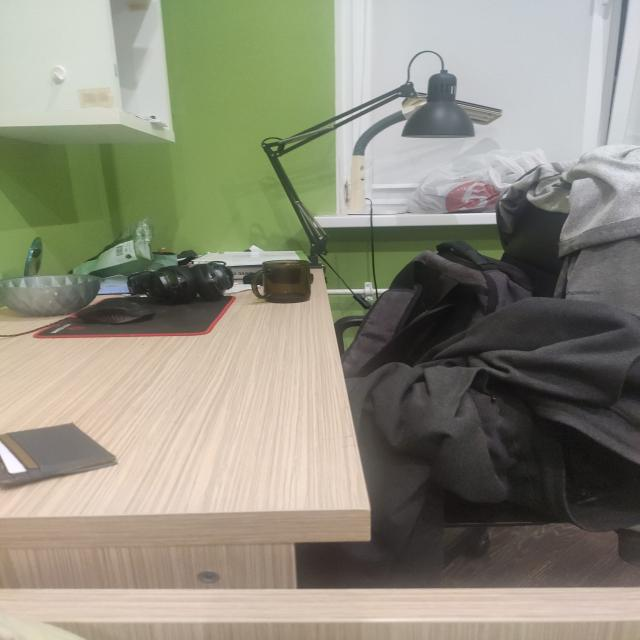cups: (251, 259, 313, 303)
